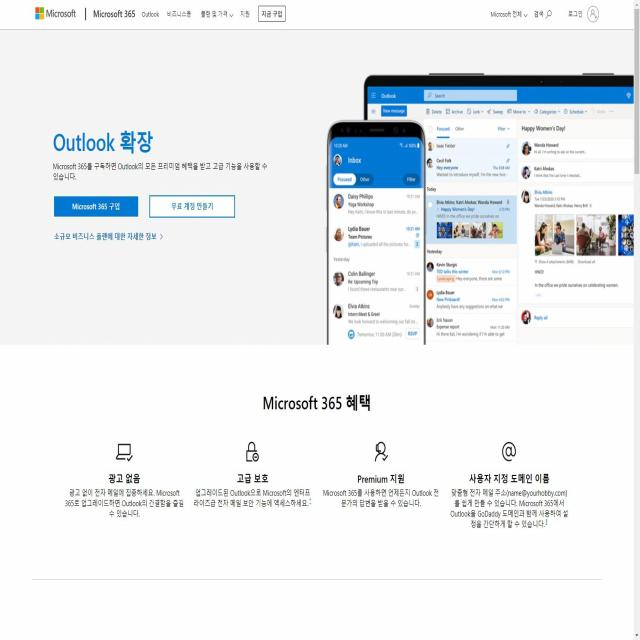button: (149, 194, 236, 219), (54, 195, 140, 218), (258, 5, 286, 23)
select: (489, 8, 529, 20), (200, 7, 235, 20)
